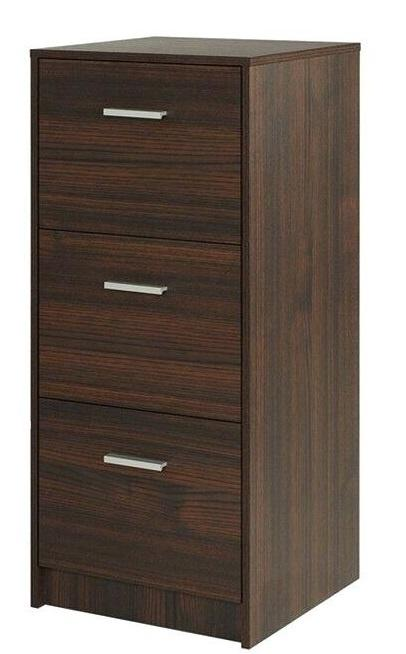cabinet_door: (40, 398, 246, 598), (41, 58, 243, 239), (41, 235, 244, 411)
handle: (101, 269, 172, 308), (100, 444, 171, 482), (100, 96, 169, 129)
